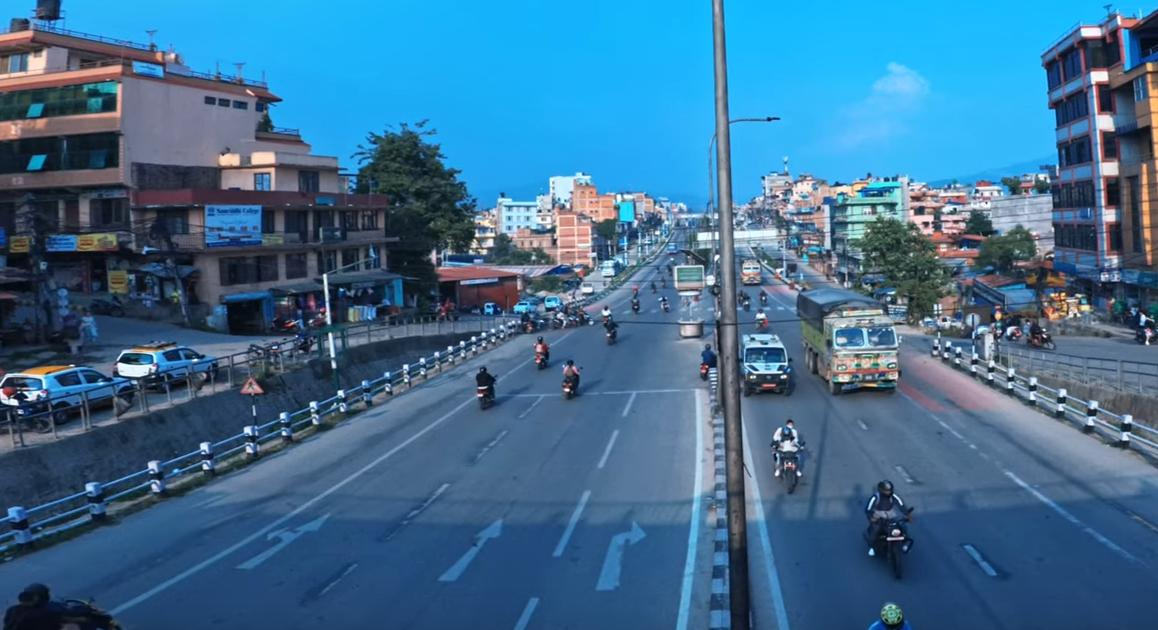ambulance: (738, 327, 794, 400)
bike: (867, 505, 917, 580), (771, 435, 812, 495)
taxi: (0, 364, 139, 424), (113, 338, 224, 387)
truck: (794, 285, 905, 400), (740, 255, 762, 289)
